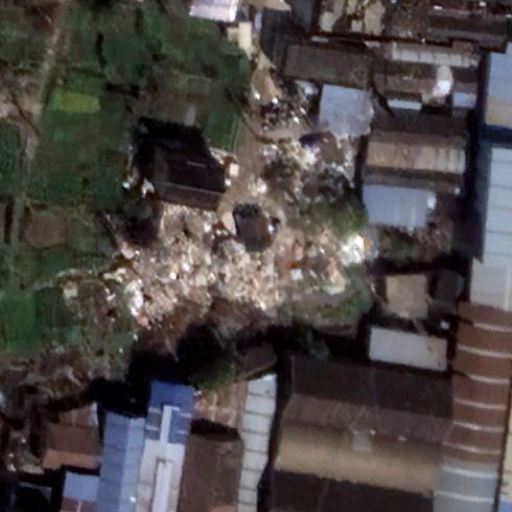msw: (115, 140, 373, 318)
